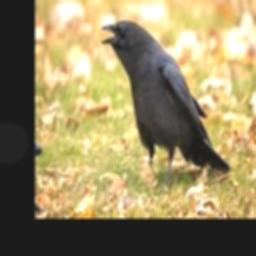Crow: (100, 19, 230, 186)
